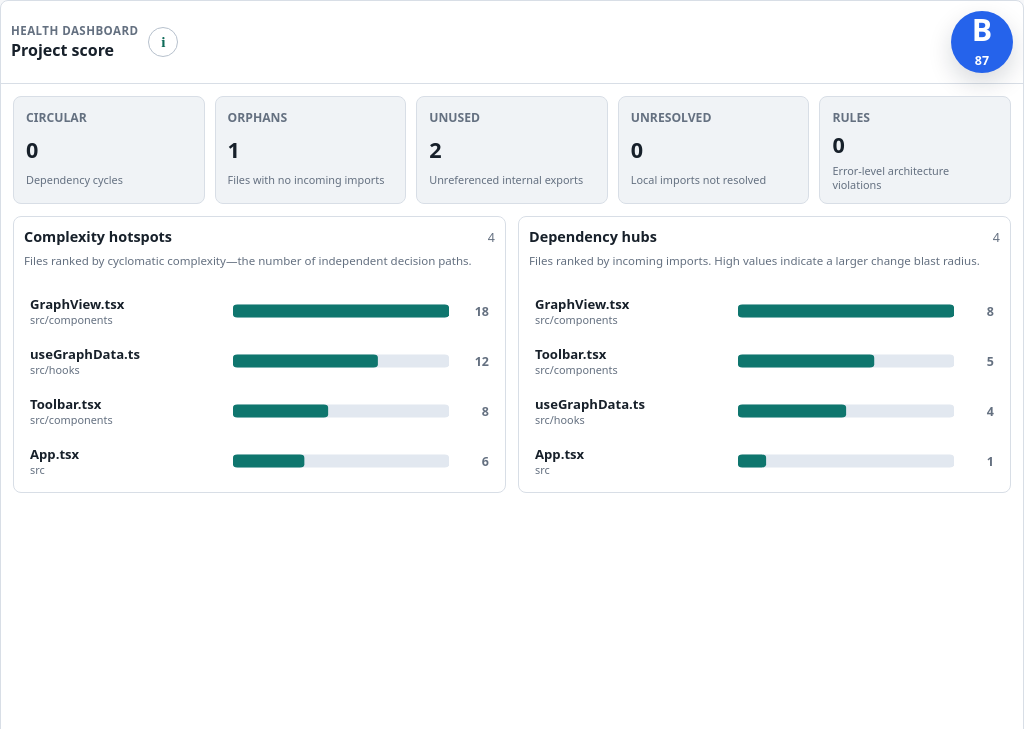
explorer interactions › explains the health score using the scorer breakdown
This screenshot has width=1024, height=729.
Click the button named "Explain health score".
click(164, 42)  # box [148, 27, 178, 57]
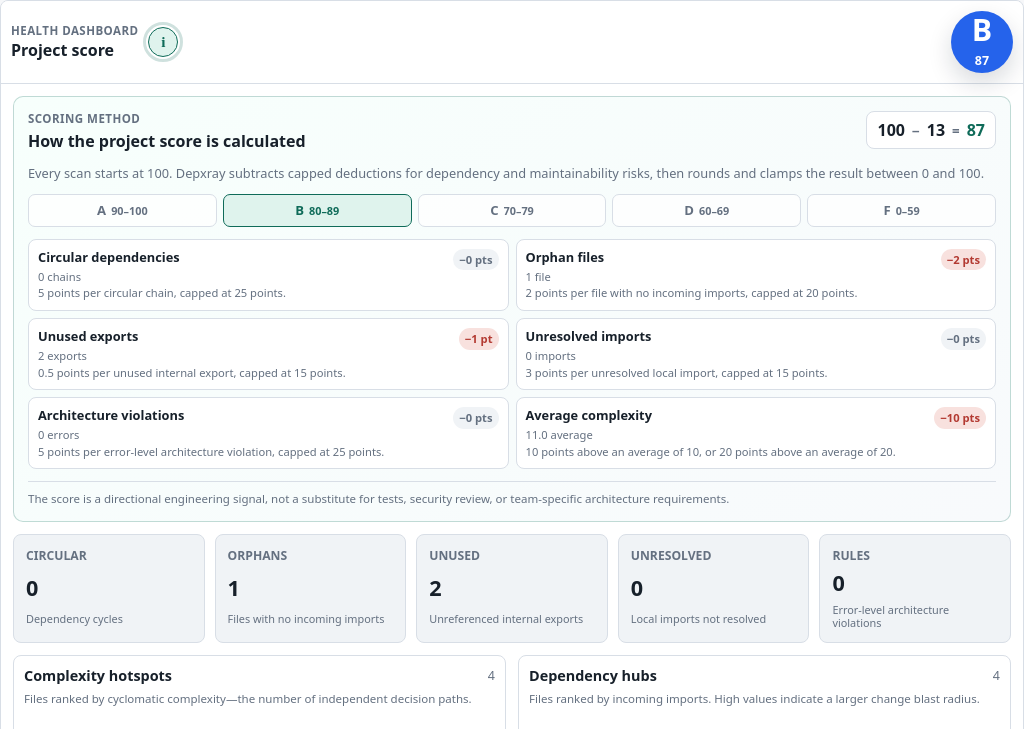
Result: the heading "How the project score is calculated" is shown at [28, 130, 306, 152]
Result: the text "Circular dependencies" is shown at [38, 248, 180, 266]
Result: the text "5 points per circular chain, capped at 25 points." is shown at [38, 286, 286, 301]
